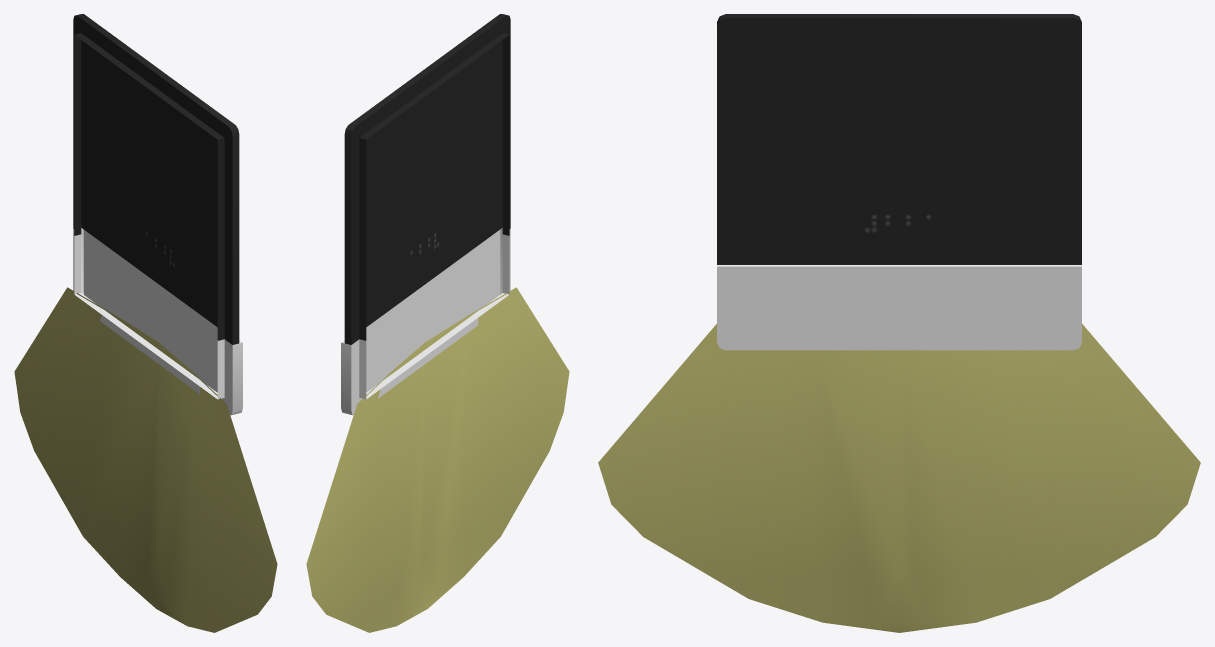
The model's file is HotelSign.fbx.
The picture shows the model from 3 angles, left to right: view 1: azimuth 30°, elevation 25°; view 2: azimuth 150°, elevation 25°; view 3: azimuth 270°, elevation 25°; orthographic projection. The views are drawn at different scales.
Parts seen in each view (by area): view 1: Plane; view 2: Plane; view 3: Plane.
Boxes of the visible parts, x1,y1,x2,y2 form: Plane: (14,14,277,632); Plane: (306,14,569,632); Plane: (598,14,1200,632).
Size of the model in its own units: 1.88 by 55.98 by 49.56.
